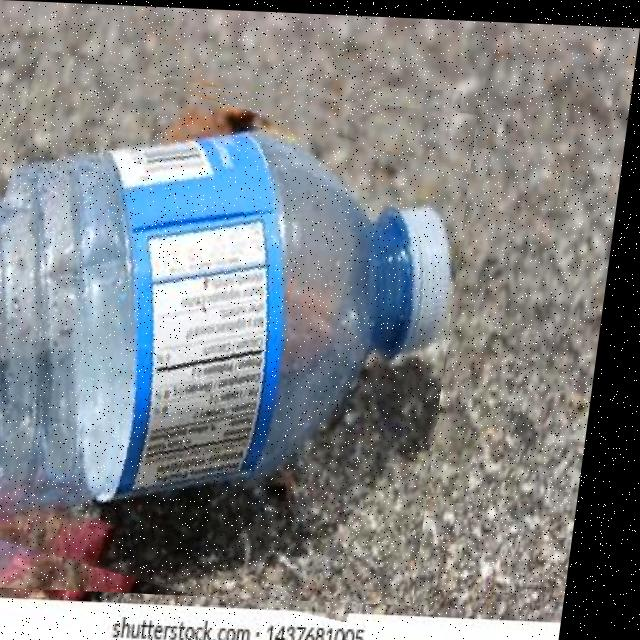litter: (0, 64, 483, 601), (334, 83, 465, 302)
